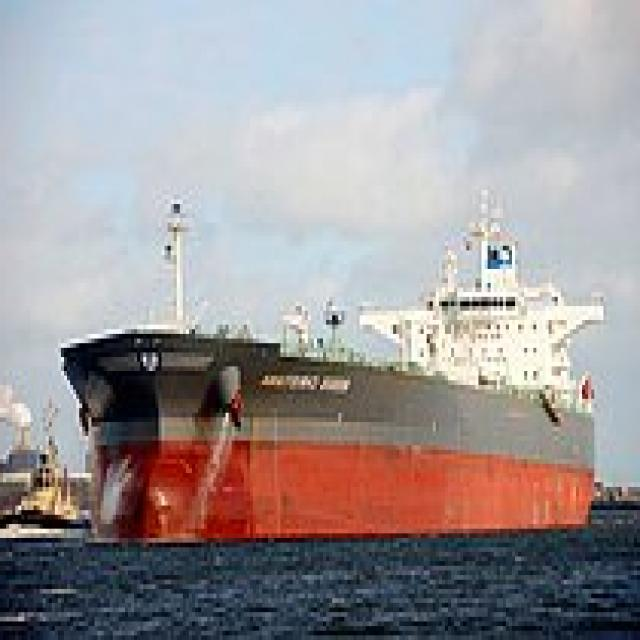Tanker: (64, 176, 610, 538)
